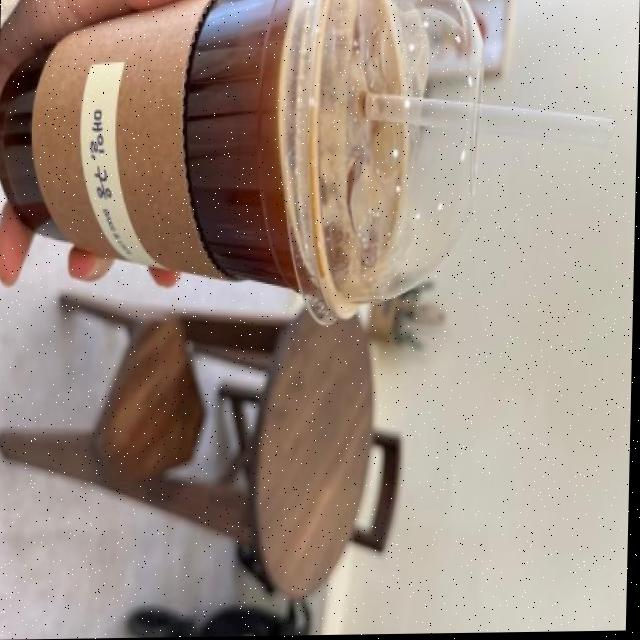cup: (0, 0, 465, 354)
